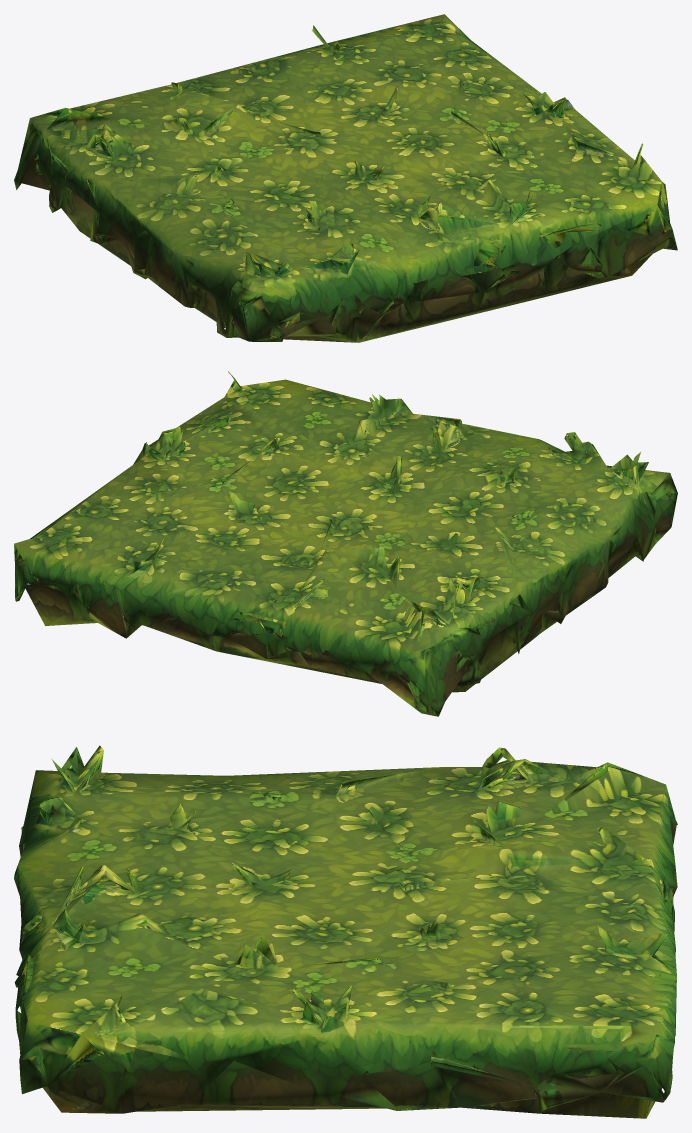
The model's file is Prop_GrassShort.fbx.
3 renders of one model, top to bottom at view 1: azimuth 30°, elevation 25°; view 2: azimuth 150°, elevation 25°; view 3: azimuth 270°, elevation 25°, orthographic. The views are drawn at different scales.
Visible parts, largest first — view 1: texture_mapping; view 2: texture_mapping; view 3: texture_mapping.
Boxes of the visible parts, x1,y1,x2,y2 form: texture_mapping: (14, 14, 677, 342); texture_mapping: (14, 371, 677, 716); texture_mapping: (14, 745, 677, 1118).
Size of the model in its own units: 0.978 by 0.982 by 0.2276.
1 material, 1 textured.
